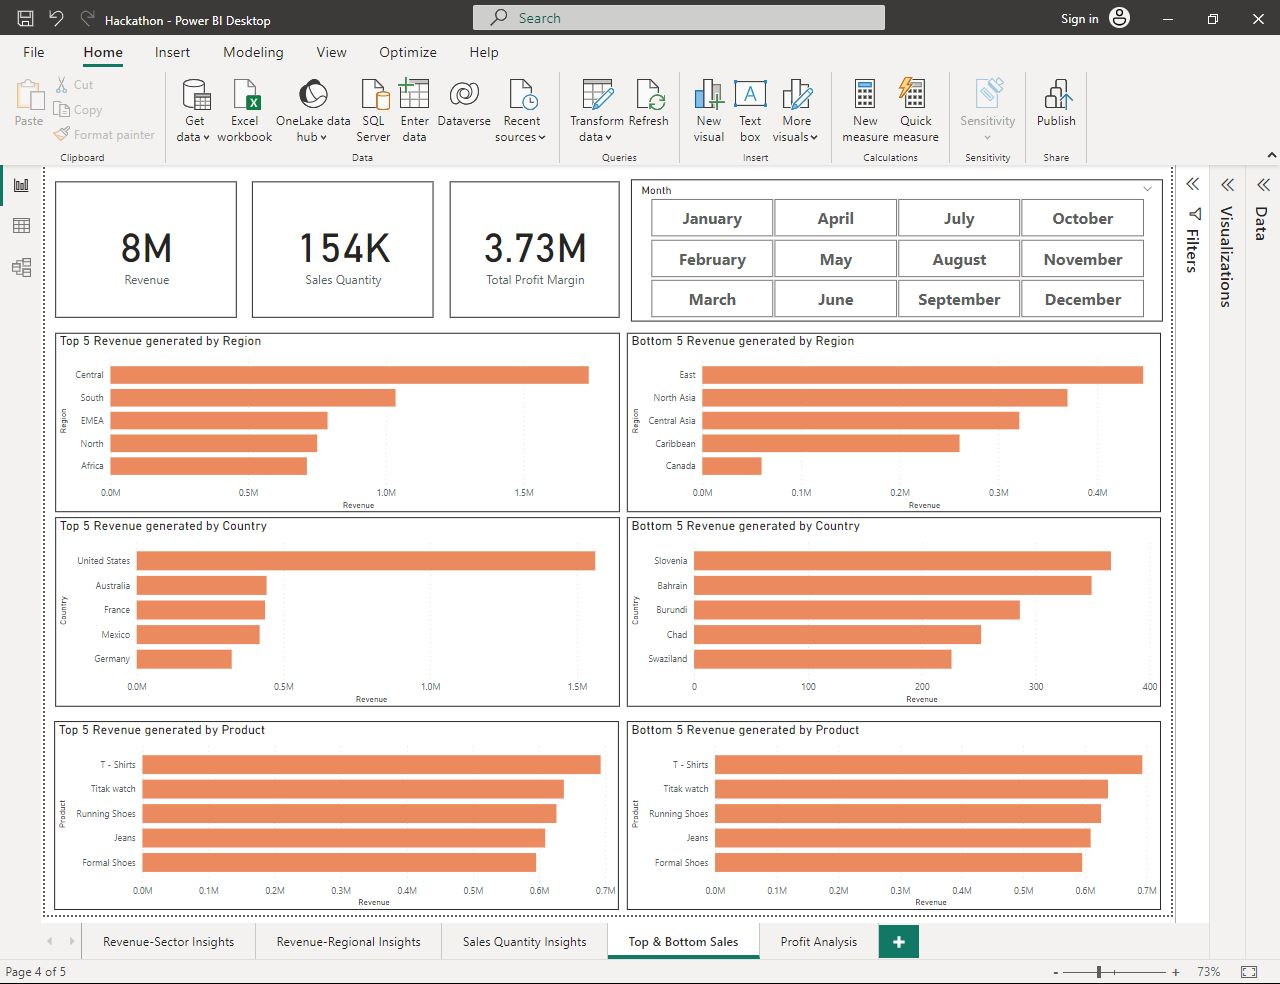

The dashboard page shown, as its layout file describes it:
{"tool":"powerbi","page":{"name":"Top & Bottom Sales","canvas":[1500,1000],"ordinal":2},"visuals":[{"type":"barChart","title":"Top 5 Revenue generated by Product","fields":{"Y":["BaseMeasures.Revenue"],"Category":["Sales.Product"]},"box":[11,733.7,757.2,254.5],"z":0},{"type":"barChart","title":"Top 5 Revenue generated by Country","fields":{"Y":["BaseMeasures.Revenue"],"Category":["Sales.Country"]},"box":[11,487,757.2,229.4],"z":1000},{"type":"barChart","title":"Top 5 Revenue generated by Region","fields":{"Y":["BaseMeasures.Revenue"],"Category":["Sales.Region"]},"box":[11,224.7,757.2,246.6],"z":2000},{"type":"barChart","title":"Bottom 5 Revenue generated by Country","fields":{"Y":["BaseMeasures.Revenue"],"Category":["Sales.Country"]},"box":[783.9,487,702.2,229.4],"z":3000},{"type":"barChart","title":"Bottom 5 Revenue generated by Region","fields":{"Y":["BaseMeasures.Revenue"],"Category":["Sales.Region"]},"box":[783.9,224.7,702.2,246.6],"z":4000},{"type":"barChart","title":"Bottom 5 Revenue generated by Product","fields":{"Y":["BaseMeasures.Revenue"],"Category":["Sales.Product"]},"box":[783.9,733.7,702.2,254.5],"z":5000},{"type":"card","fields":{"Values":["BaseMeasures.Total Profit Margin"]},"box":[559.3,18.9,262.4,190.1],"z":6000},{"type":"card","fields":{"Values":["BaseMeasures.Sales Quantity"]},"box":[271.8,17.3,268.6,191.7],"z":7000},{"type":"card","fields":{"Values":["BaseMeasures.Revenue"]},"box":[11,17.3,248.2,191.7],"z":8000},{"type":"slicer","title":"Revenue by Months","fields":{"Values":["Sales.Order Date.Variation.Date Hierarchy.Month"]},"box":[825.1,17.8,665.9,192.2],"z":9000}]}

Visuals, with their boxes on the page's 1500x1000 design canvas (x1, y1, x2, y2). These are canvas units, not pixel positions in the 1280x984 screenshot, which may show the page scaled, cropped or inside an application window:
"Top 5 Revenue generated by Product" barChart: {"left": 11, "top": 734, "right": 768, "bottom": 988}
"Top 5 Revenue generated by Country" barChart: {"left": 11, "top": 487, "right": 768, "bottom": 716}
"Top 5 Revenue generated by Region" barChart: {"left": 11, "top": 225, "right": 768, "bottom": 471}
"Bottom 5 Revenue generated by Country" barChart: {"left": 784, "top": 487, "right": 1486, "bottom": 716}
"Bottom 5 Revenue generated by Region" barChart: {"left": 784, "top": 225, "right": 1486, "bottom": 471}
"Bottom 5 Revenue generated by Product" barChart: {"left": 784, "top": 734, "right": 1486, "bottom": 988}
card - BaseMeasures.Total Profit Margin: {"left": 559, "top": 19, "right": 822, "bottom": 209}
card - BaseMeasures.Sales Quantity: {"left": 272, "top": 17, "right": 540, "bottom": 209}
card - BaseMeasures.Revenue: {"left": 11, "top": 17, "right": 259, "bottom": 209}
"Revenue by Months" slicer: {"left": 825, "top": 18, "right": 1491, "bottom": 210}
